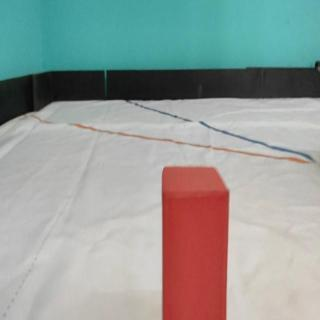redbox: (164, 170, 223, 320)
